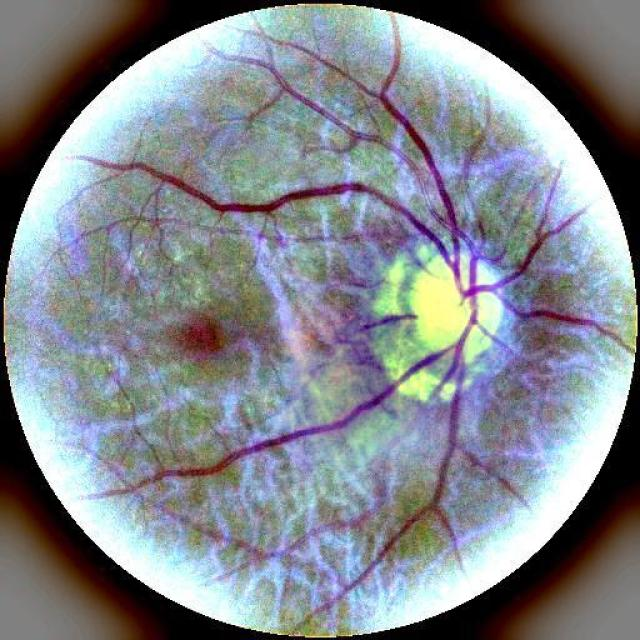Macula: (179, 309, 235, 373)
Nerves: (80, 31, 585, 606), (246, 58, 414, 169), (500, 299, 626, 348), (360, 312, 415, 331)
Optic Disk: (391, 234, 524, 384)
